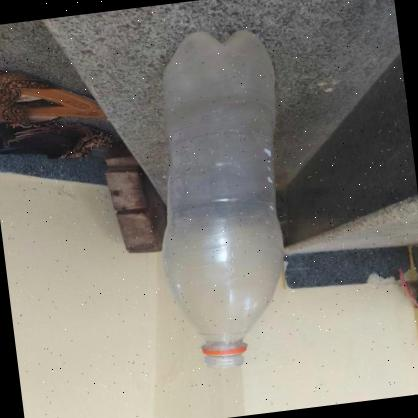bottle: (130, 6, 328, 380)
